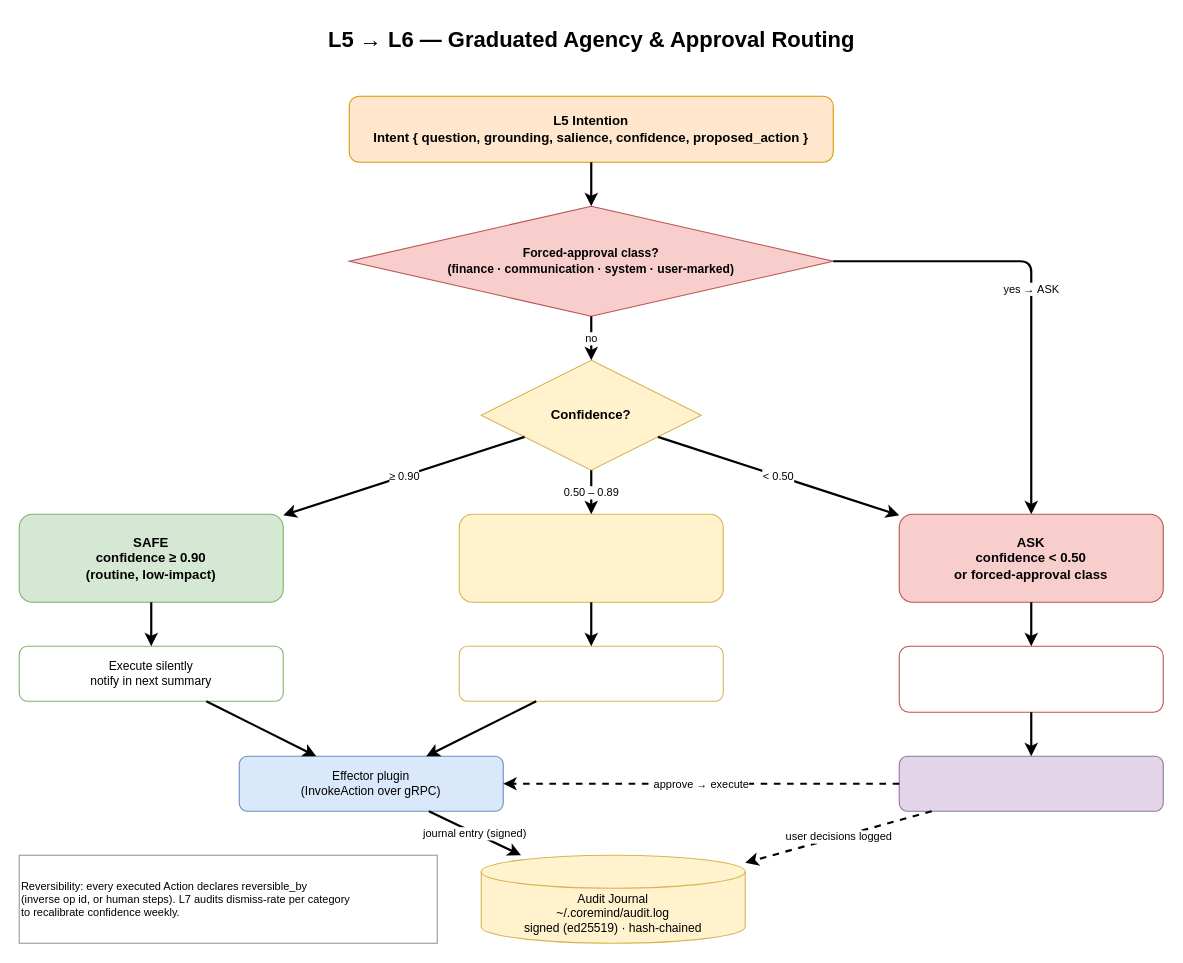
The diagram is 1183 pixels wide and 963 high, and some of its shapes have lost their labels. The shapes that lost their labels are listed below. From the top down, each one's centre as x and y in pixels, then its label:
(x=590, y=557): SUGGEST 0.50 ≤ confidence < 0.90 (optimization)
(x=590, y=673): Execute + immediate explanation to user
(x=1030, y=678): Approval Gate send via Notify Router (Telegram / Dashboard / OpenClaw)
(x=1030, y=783): User decides approve · dismiss · modify
